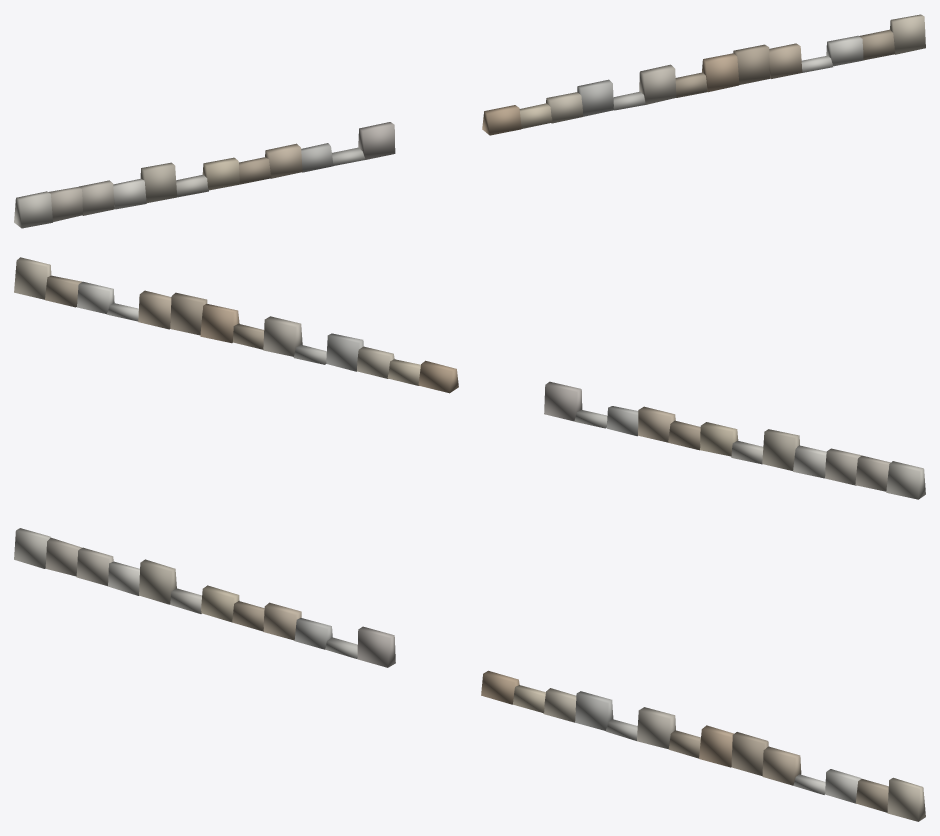
Rendered from farm_18_21_far.glb.
3 renders of one model, top to bottom at view 1: azimuth 30°, elevation 25°; view 2: azimuth 150°, elevation 25°; view 3: azimuth 330°, elevation 25°, orthographic. The views are drawn at different scales.
Visible parts, largest first — view 1: geometry_0; view 2: geometry_0; view 3: geometry_0.
Part boxes in pixels (box(x1,y1,x2,y2)): geometry_0: box(14, 14, 925, 228); geometry_0: box(14, 257, 925, 499); geometry_0: box(14, 528, 925, 821).
Bounding box in the file's own units: 45.84 × 2.68 × 1.88.
